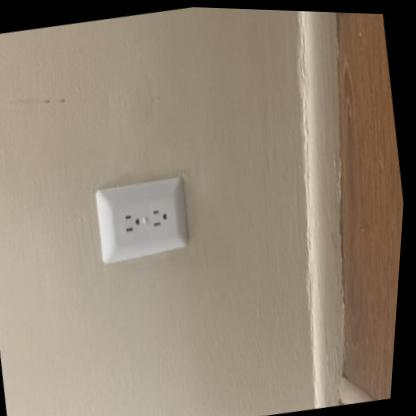OUTLET: (86, 168, 197, 268)
